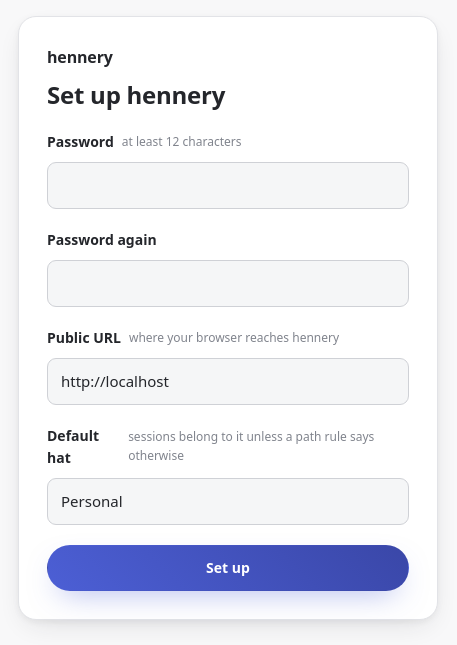
Test case: setup › sends the token, password, this origin and the hat name, then offers a passkey
The image size is (457, 645).
expect the field labelled "Default hat" holds "Personal": met, box [47, 478, 409, 525]
Type "correct horse battery" into the password field labelled "Password at least 12 characters". click: point(228, 186)
box: [47, 162, 409, 209]
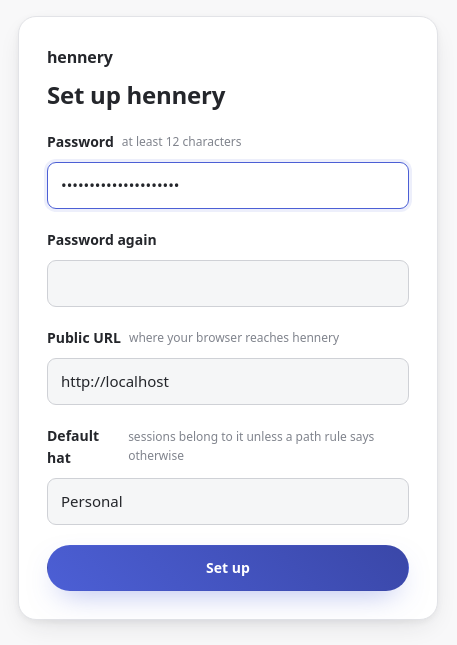
Type "correct horse battery" into the password field labelled "Password again". click: point(228, 284)
box: [47, 260, 409, 307]
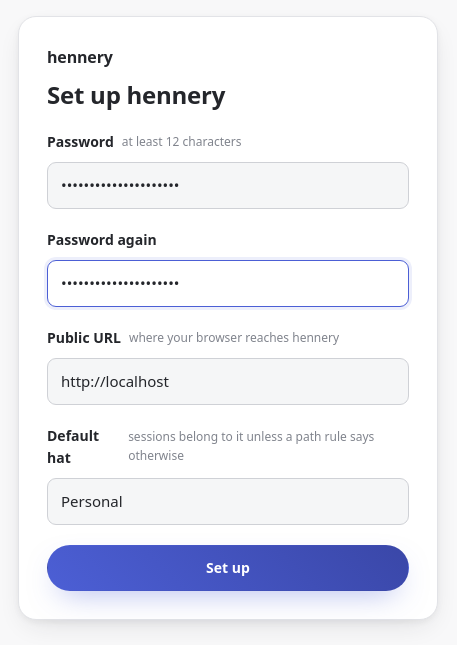
Click the button "Set up". click: point(228, 568)
box: [47, 545, 409, 591]
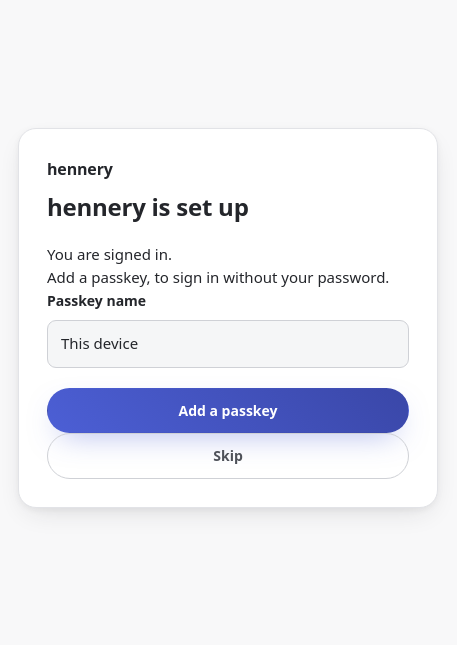
expect the heading "hennery is set up" is shown: met, box [47, 190, 249, 223]
